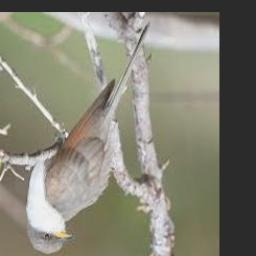Cuckoo: (24, 21, 150, 254)
